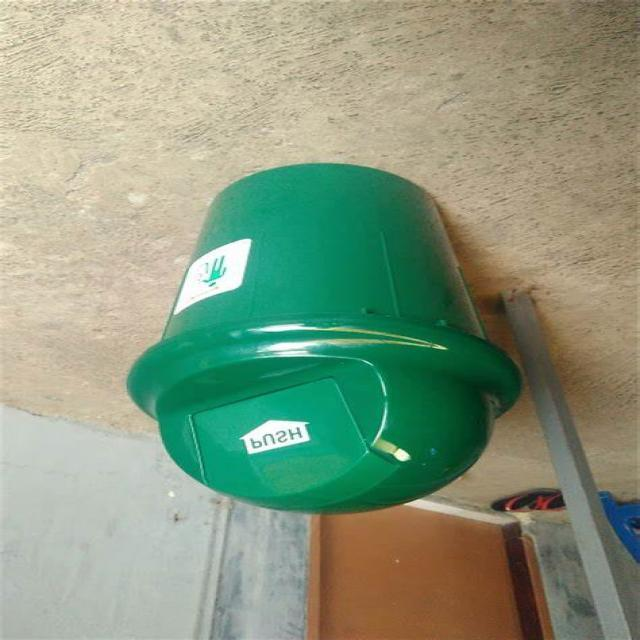garbage container: (97, 163, 577, 516)
